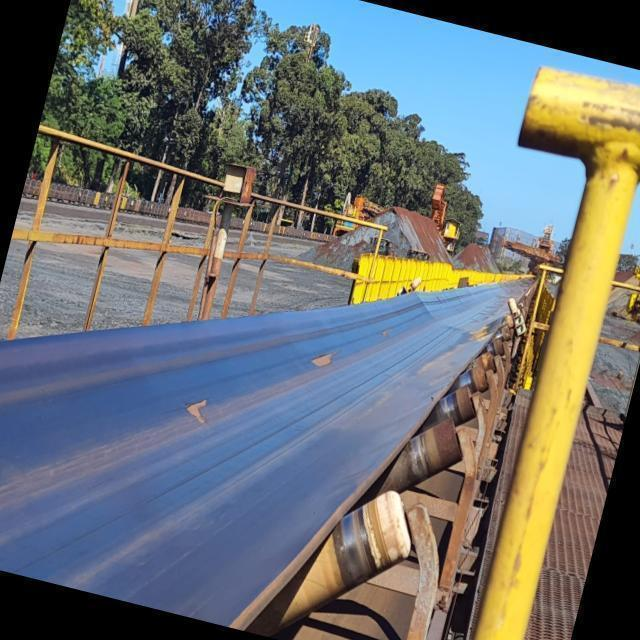Tear: (174, 388, 223, 434), (302, 344, 344, 381)
